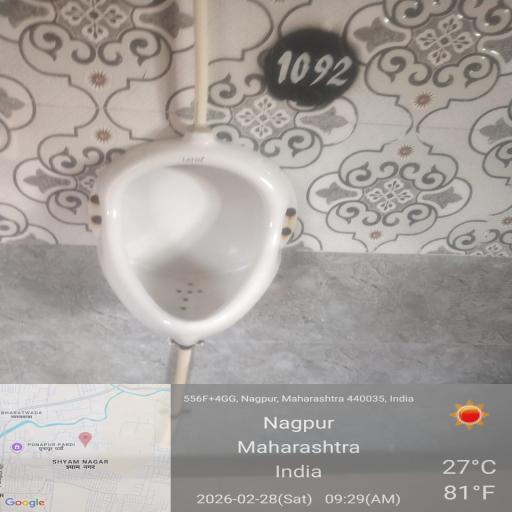clean_floor: (129, 3, 512, 512)
clean_urinal: (59, 146, 342, 350)
